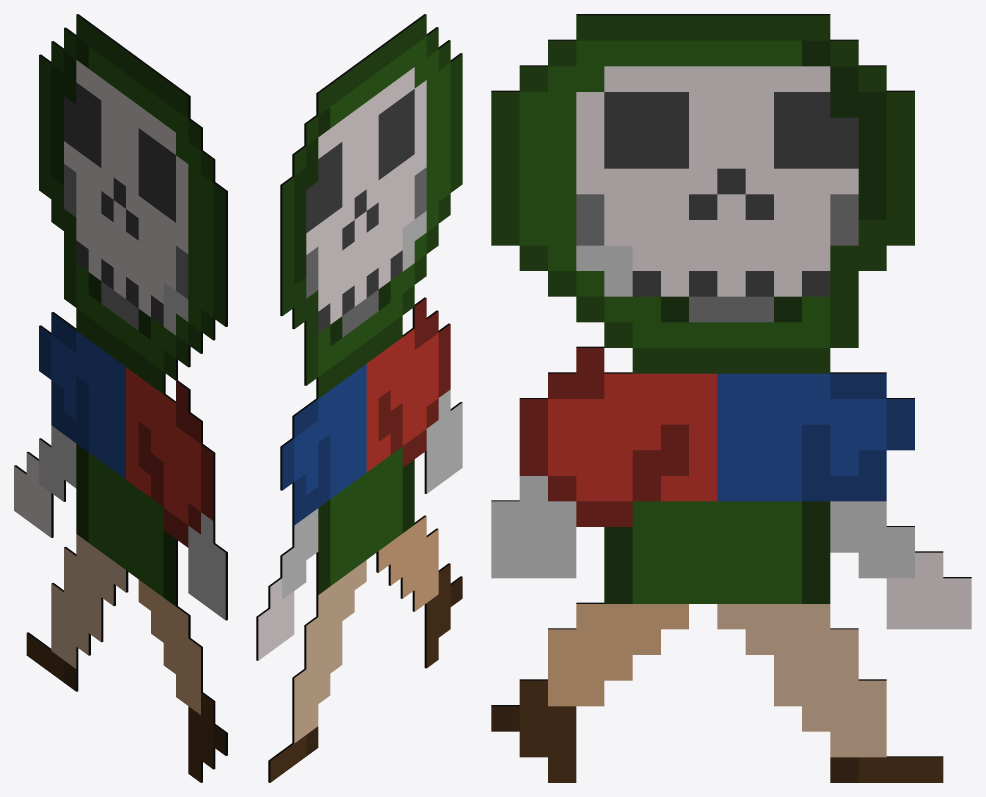
The model's file is Enemy2WC7.fbx.
The picture shows the model from 3 angles, left to right: view 1: azimuth 30°, elevation 25°; view 2: azimuth 150°, elevation 25°; view 3: azimuth 270°, elevation 25°; orthographic projection. The views are drawn at different scales.
Visible parts, largest first — view 1: Cube; view 2: Cube; view 3: Cube.
Boxes of the visible parts, x1,y1,x2,y2 form: Cube: [14, 14, 227, 782]; Cube: [256, 14, 462, 782]; Cube: [491, 14, 971, 782].
Size of the model in its own units: 20 by 6000 by 3400.
